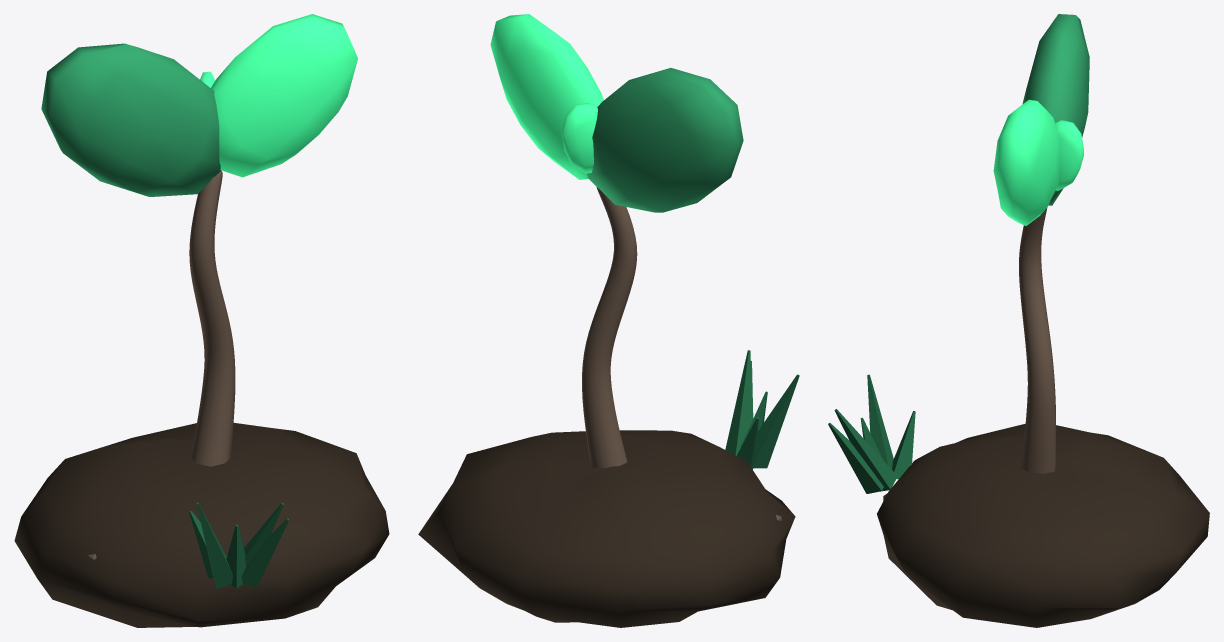
The model's file is garden-sprout.glb.
3 views of the same model, side by side, from view 1: azimuth 30°, elevation 25°; view 2: azimuth 150°, elevation 25°; view 3: azimuth 270°, elevation 25° (orthographic). The views are drawn at different scales.
Parts seen in each view (by area): view 1: garden-sprout; view 2: garden-sprout; view 3: garden-sprout.
Part boxes in pixels (<box>): garden-sprout: <box>14,14,389,627</box>; garden-sprout: <box>418,14,799,627</box>; garden-sprout: <box>828,14,1209,627</box>.
Size of the model in its own units: 0.3082 by 0.5029 by 0.3299.
